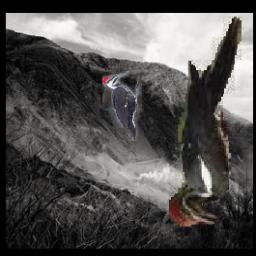Woodpecker: (168, 17, 241, 228), (101, 71, 143, 141)
